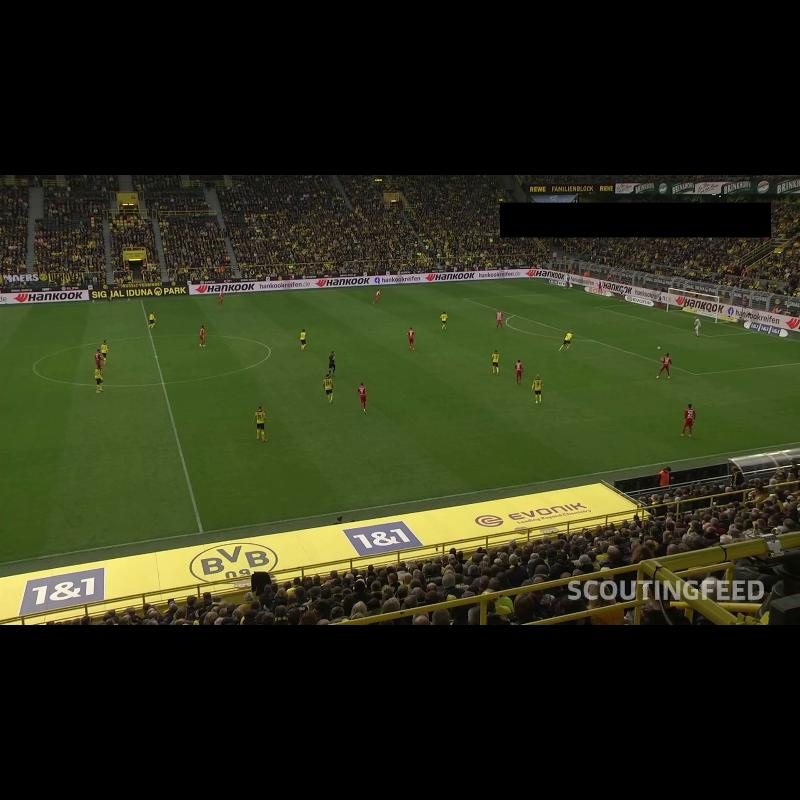cross_recipient_zone: (464, 292, 800, 374)
crossing_player_zone: (588, 363, 800, 451), (366, 279, 580, 303)
pitch: (0, 280, 800, 563)
